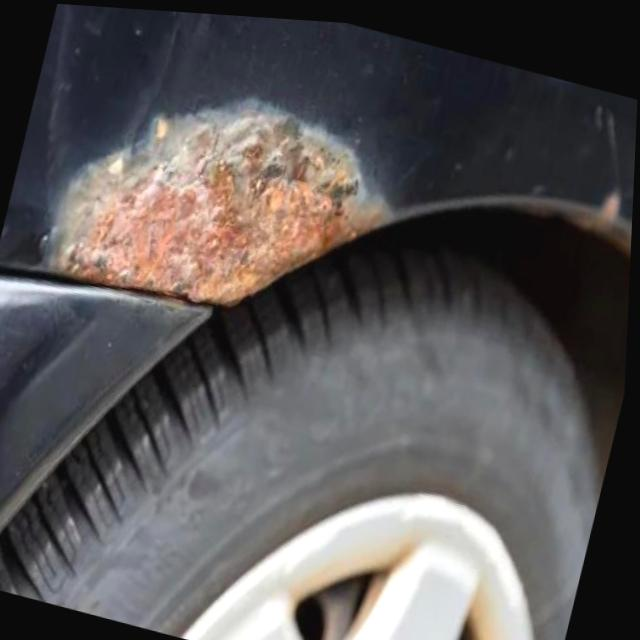Rust: (38, 97, 413, 308), (493, 184, 633, 267)
